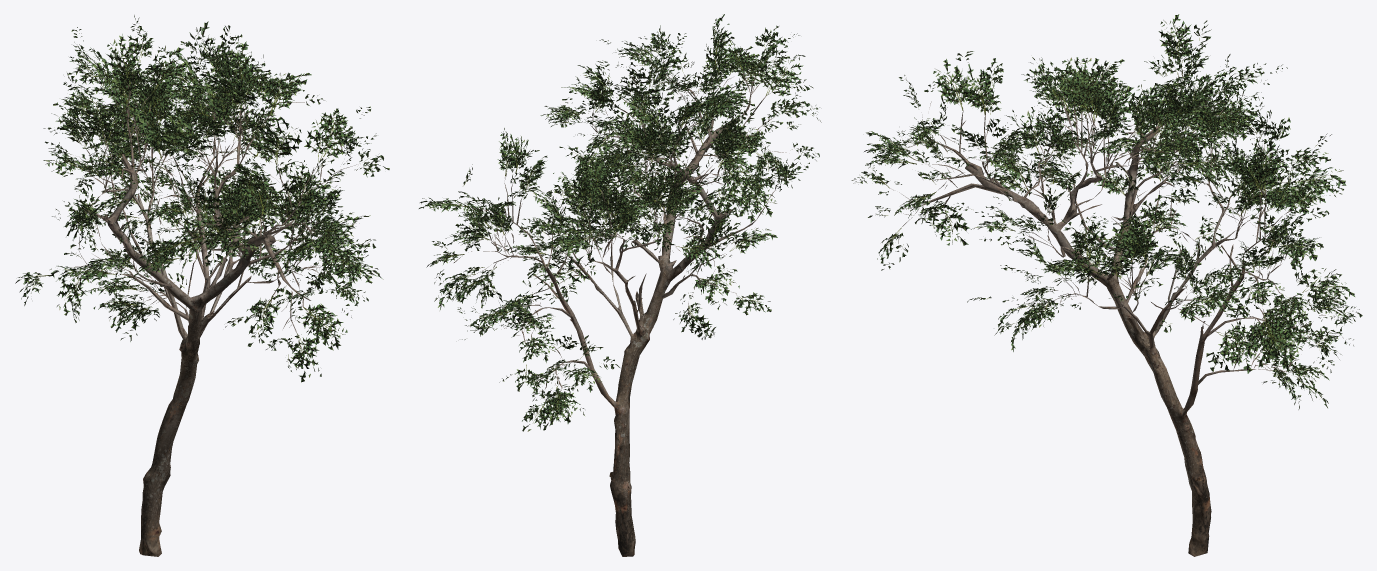
The model's file is tree-small-02-lod2.glb.
3 renders of one model, left to right at view 1: azimuth 30°, elevation 25°; view 2: azimuth 150°, elevation 25°; view 3: azimuth 270°, elevation 25°, orthographic. The views are drawn at different scales.
Parts seen in each view (by area): view 1: tree_small_02_LOD0; view 2: tree_small_02_LOD0; view 3: tree_small_02_LOD0.
Boxes of the visible parts, x1=… form: tree_small_02_LOD0: x1=15, y1=15, x2=389, y2=556; tree_small_02_LOD0: x1=419, y1=14, x2=821, y2=556; tree_small_02_LOD0: x1=851, y1=14, x2=1362, y2=556.
Bounding box in the file's own units: 2.9 × 4.55 × 4.22.
Materials: 3 (3 with a texture image).
